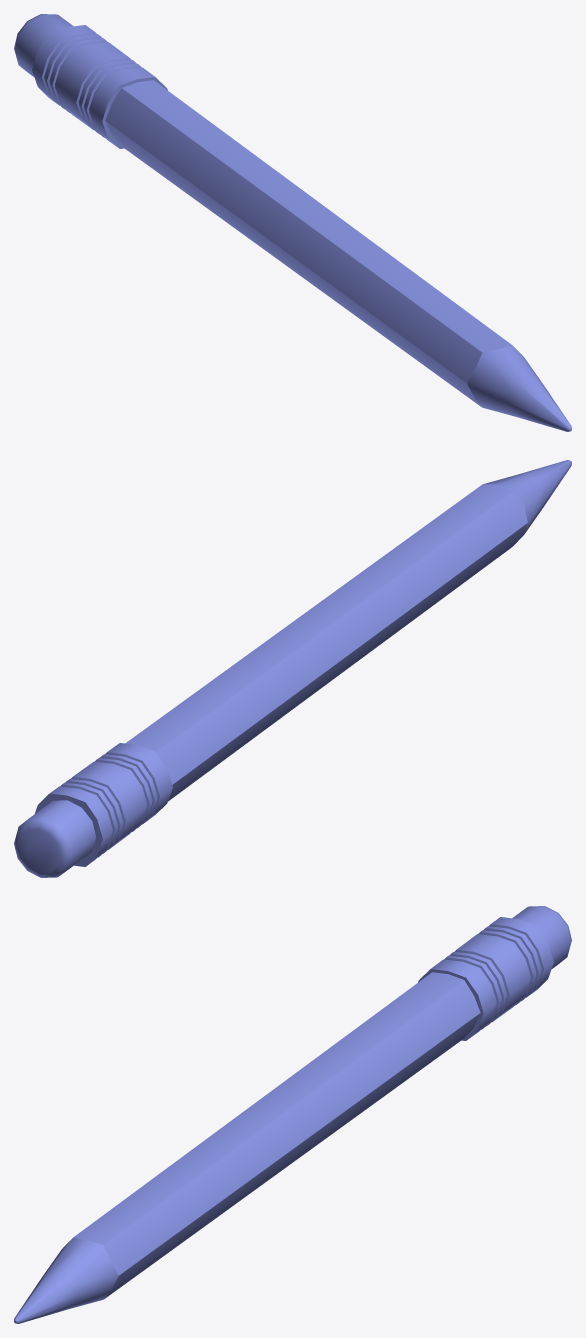
Rendered from asset_pen.glb.
3 renders of one model, top to bottom at view 1: azimuth 30°, elevation 25°; view 2: azimuth 150°, elevation 25°; view 3: azimuth 330°, elevation 25°, orthographic.
Visible parts, largest first — view 1: pencil_01; view 2: pencil_01; view 3: pencil_01.
Boxes of the visible parts, box(x1,y1,x2,y2) form: pencil_01: box(14, 14, 571, 431); pencil_01: box(14, 460, 571, 877); pencil_01: box(14, 906, 571, 1323).
Bounding box in the file's own units: 0.3636 × 0.3395 × 4.72.
